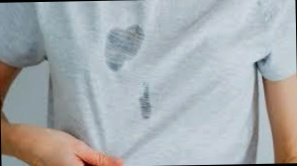oil: (104, 25, 142, 72), (137, 83, 163, 123)
